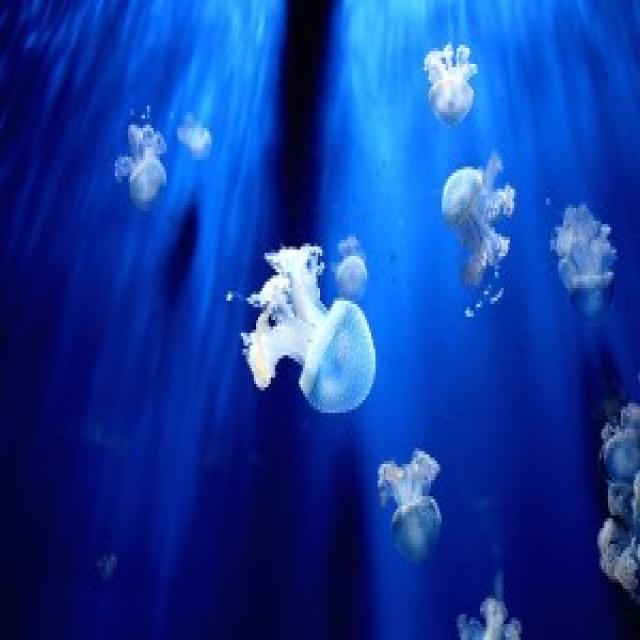Jellyfish: (244, 236, 375, 427), (436, 160, 523, 298), (545, 204, 631, 329), (378, 437, 446, 566), (116, 114, 176, 213), (421, 37, 483, 131), (176, 114, 212, 162)
